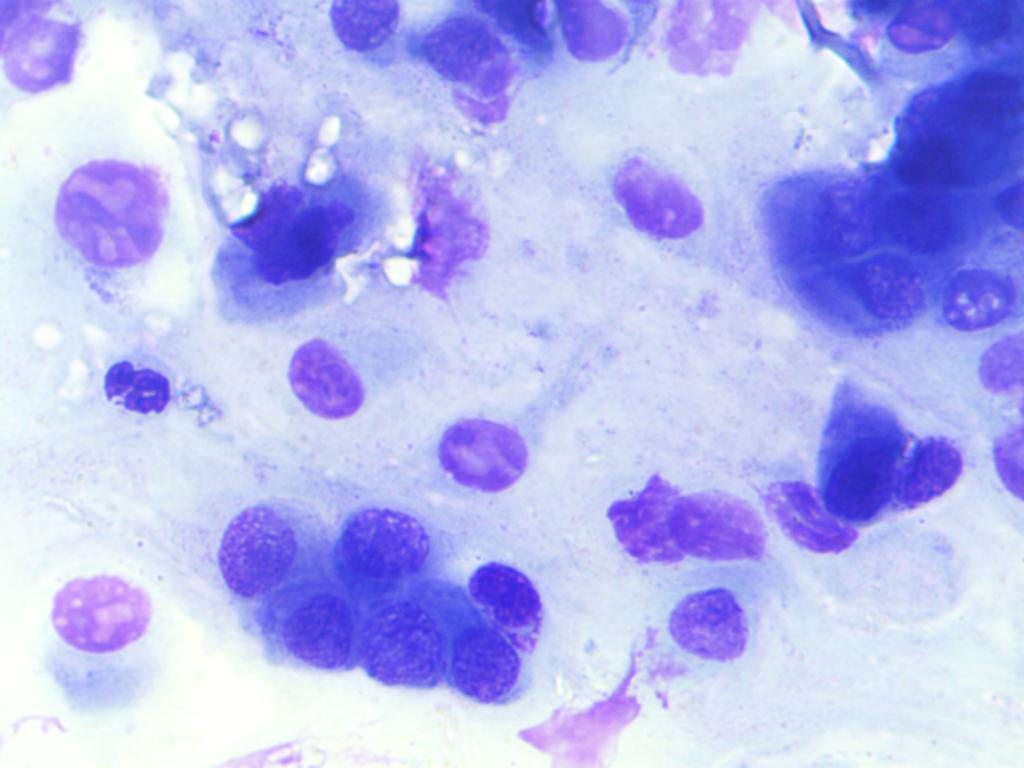artifact: (516, 637, 656, 768), (414, 166, 501, 319), (648, 0, 754, 90)
epithelial: (25, 131, 190, 288), (586, 465, 771, 573), (570, 143, 711, 258), (251, 329, 407, 430), (12, 555, 168, 656), (750, 446, 858, 577), (406, 399, 535, 501), (852, 389, 963, 507), (416, 16, 520, 133), (752, 174, 886, 261), (457, 547, 558, 659), (652, 570, 757, 673), (794, 259, 933, 336), (326, 499, 440, 589), (0, 0, 92, 109), (207, 488, 299, 595), (352, 597, 447, 699), (942, 243, 1021, 346), (263, 587, 353, 675), (542, 0, 634, 77), (444, 621, 520, 704), (857, 0, 964, 56), (978, 397, 1024, 516), (318, 0, 408, 60), (981, 338, 1024, 412)
metaplastic: (208, 179, 403, 321), (896, 66, 1024, 213), (801, 364, 907, 539)
neutrophil: (85, 348, 182, 416)
